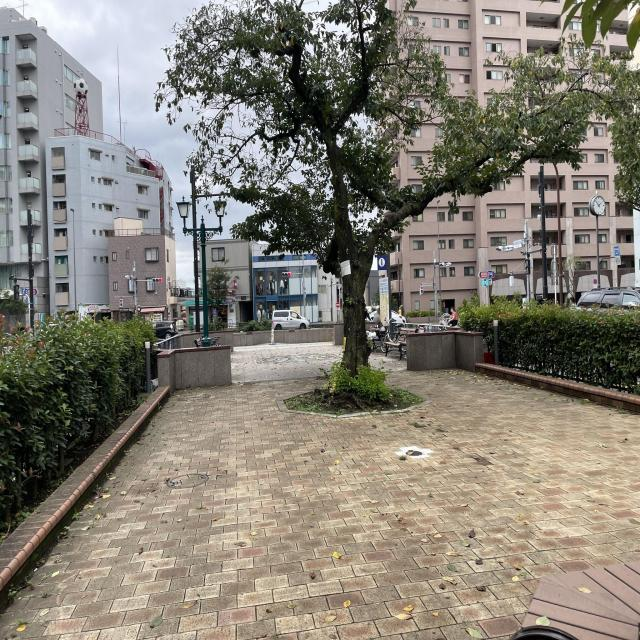sakura: (153, 0, 640, 397)
